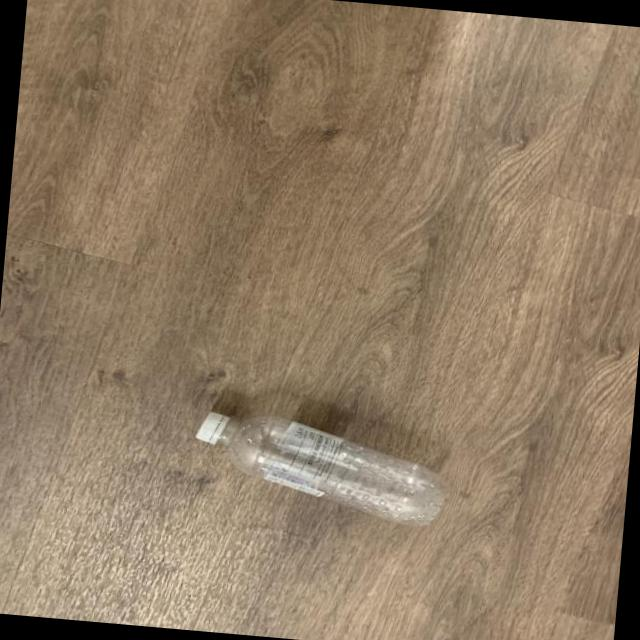plastic_bottle: (188, 408, 454, 528)
